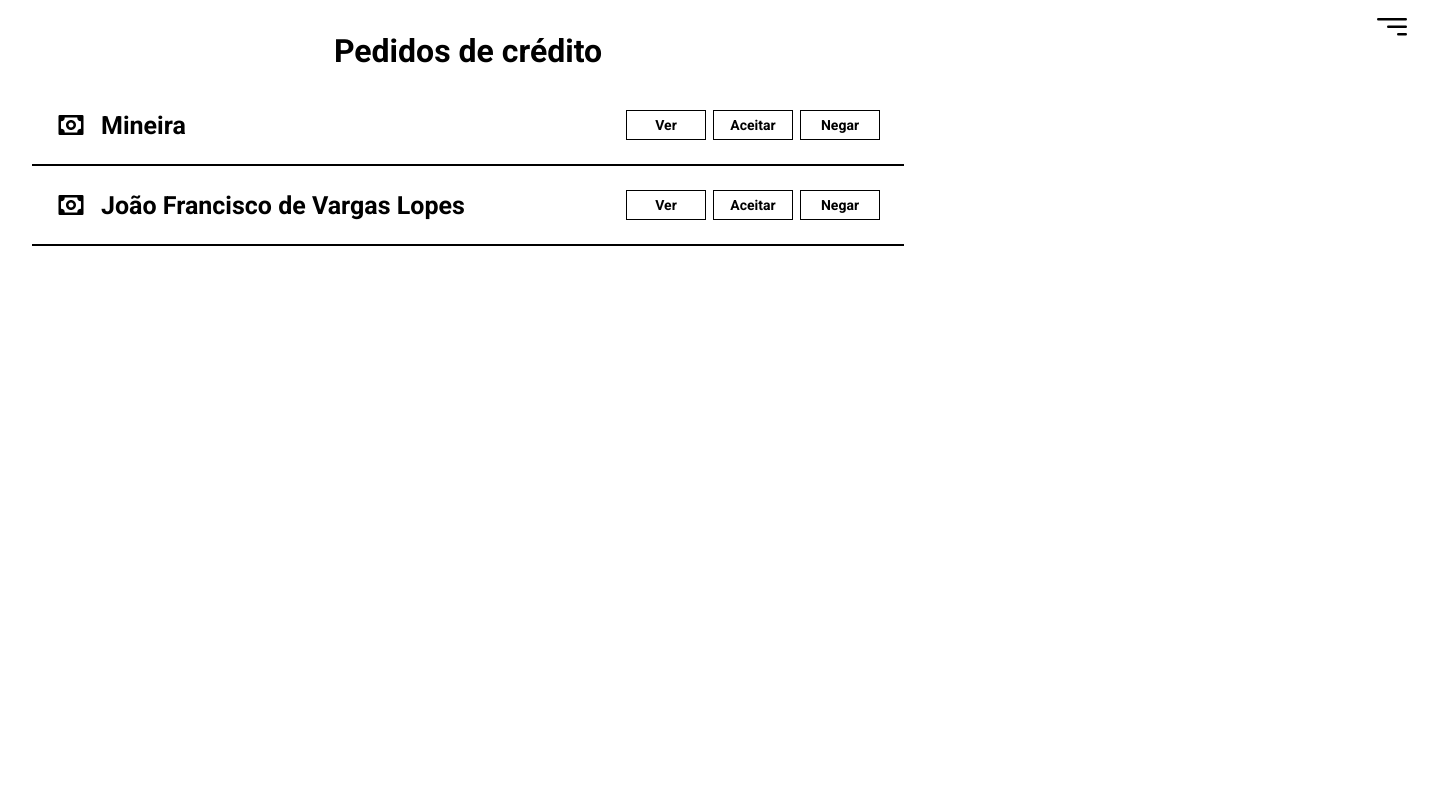
Test: Credits › Render warning deny
This screenshot has width=1440, height=810.
Click the button "Negar" in the row of "Mineira".
click(840, 125)  # box [800,110,880,140]
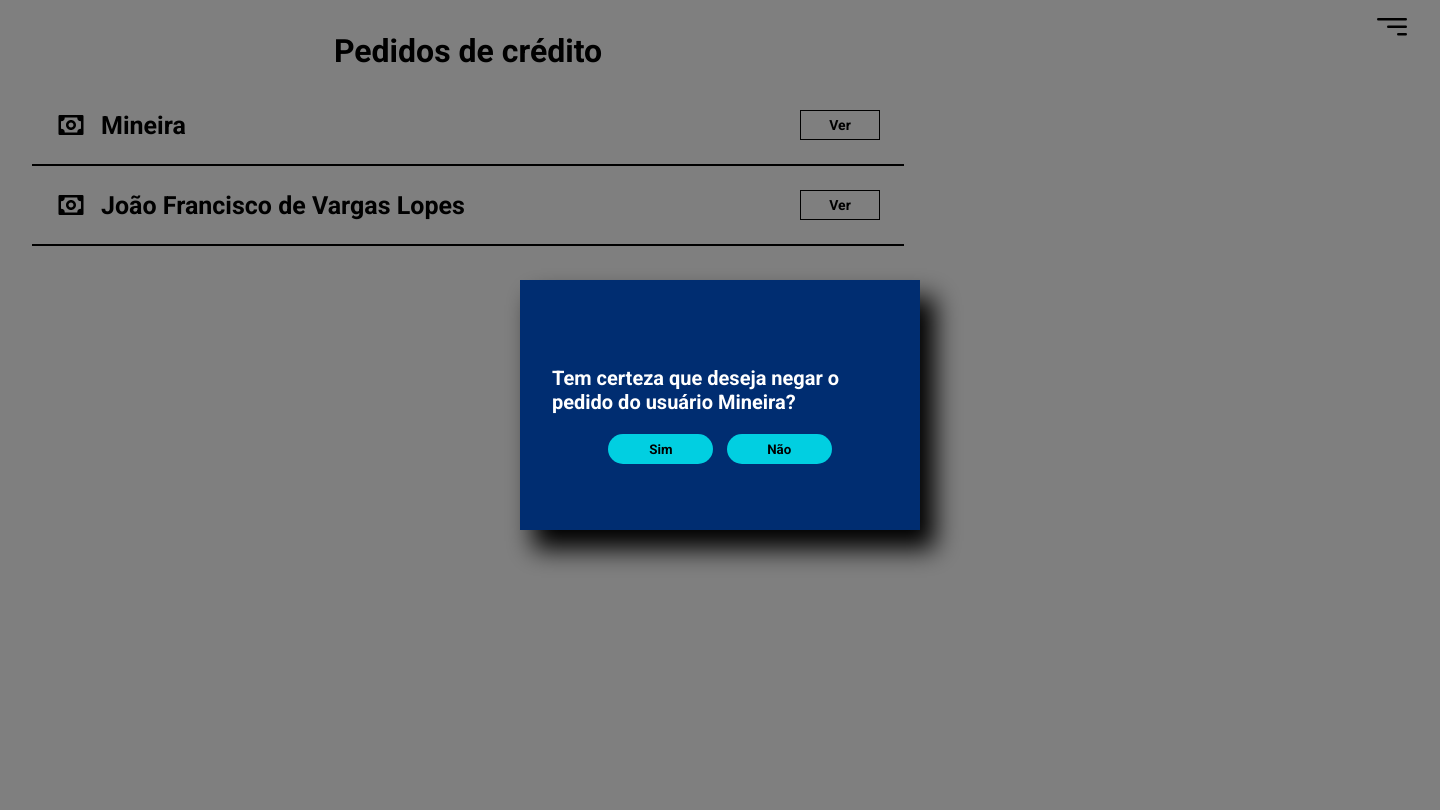
Now the text "Tem certeza que deseja negar o pedido do usuário Mineira?" is shown, box [552,366,839,414]
Now the button "Sim" is shown, box [608,434,713,464]
Now the button "Não" is shown, box [727,434,832,464]
